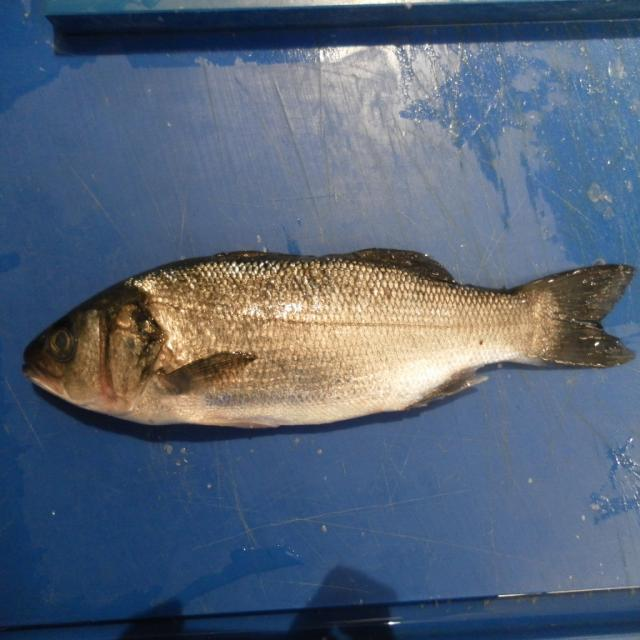Sea-Bass-levrek-: (22, 248, 635, 433)
